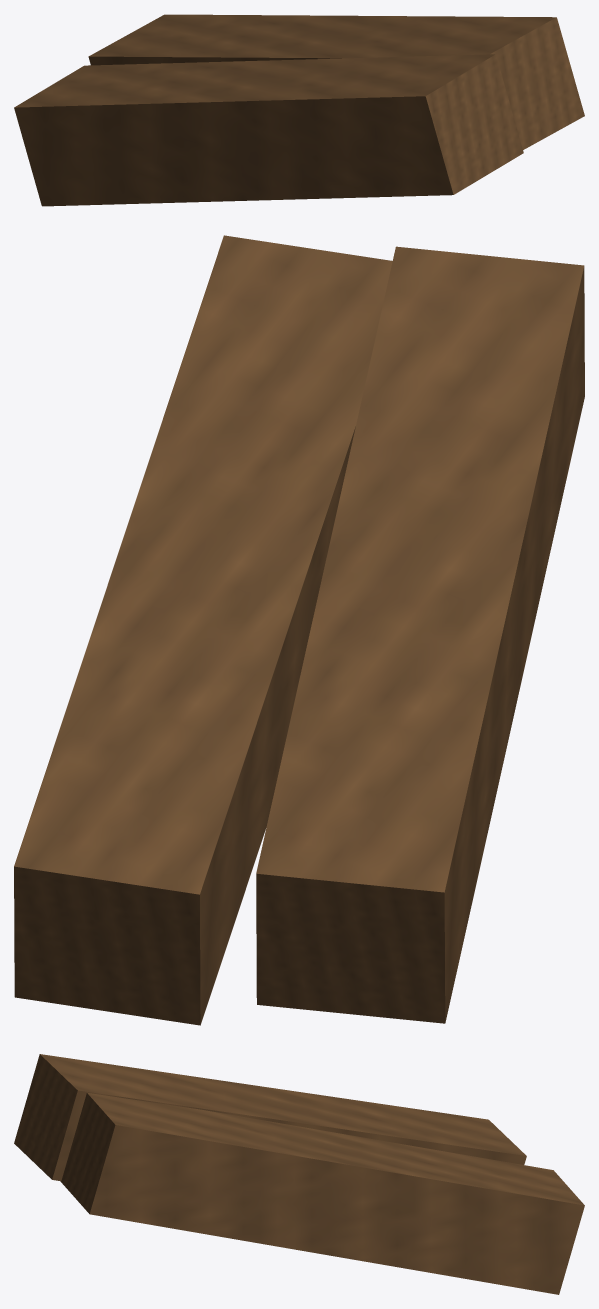
The model's file is Deco_Racine_A.obj.
3 renders of one model, top to bottom at view 1: azimuth 30°, elevation 25°; view 2: azimuth 150°, elevation 25°; view 3: azimuth 270°, elevation 25°, orthographic. The views are drawn at different scales.
Parts seen in each view (by area): view 1: Deco_Racine_A; view 2: Deco_Racine_A; view 3: Deco_Racine_A.
Boxes of the visible parts, x1,y1,x2,y2 form: Deco_Racine_A: (14, 14, 584, 206); Deco_Racine_A: (14, 235, 584, 1025); Deco_Racine_A: (14, 1054, 584, 1294).
Size of the model in its own units: 1.14 by 0.7852 by 1.77.
1 material, 1 textured.
